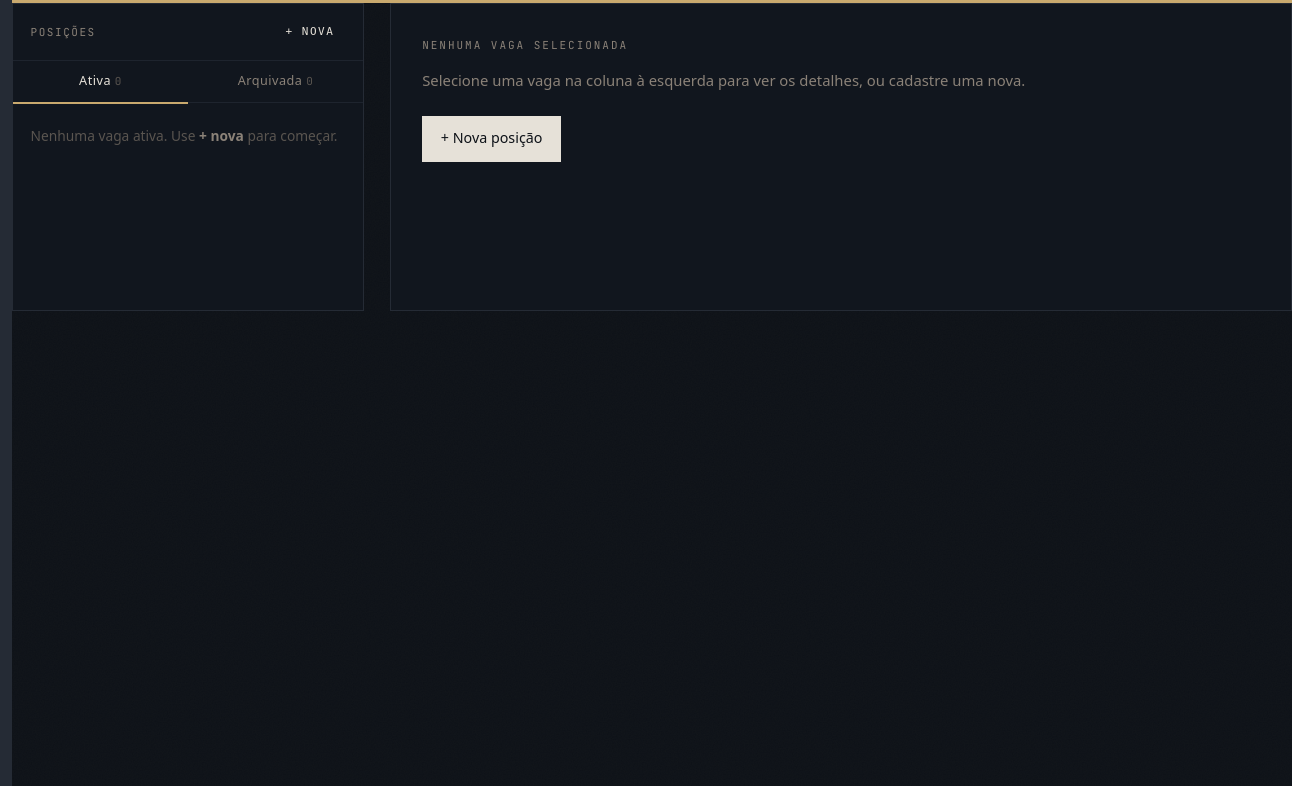
item-list sections (Requirements / Qualifications / Nice to Have) › começa com um único input por seção de lista
What coordinates should you click on to do the following:
click the button "+ Nova posição"
I would click on:
 (492, 139)
Its box is [422, 116, 561, 162].
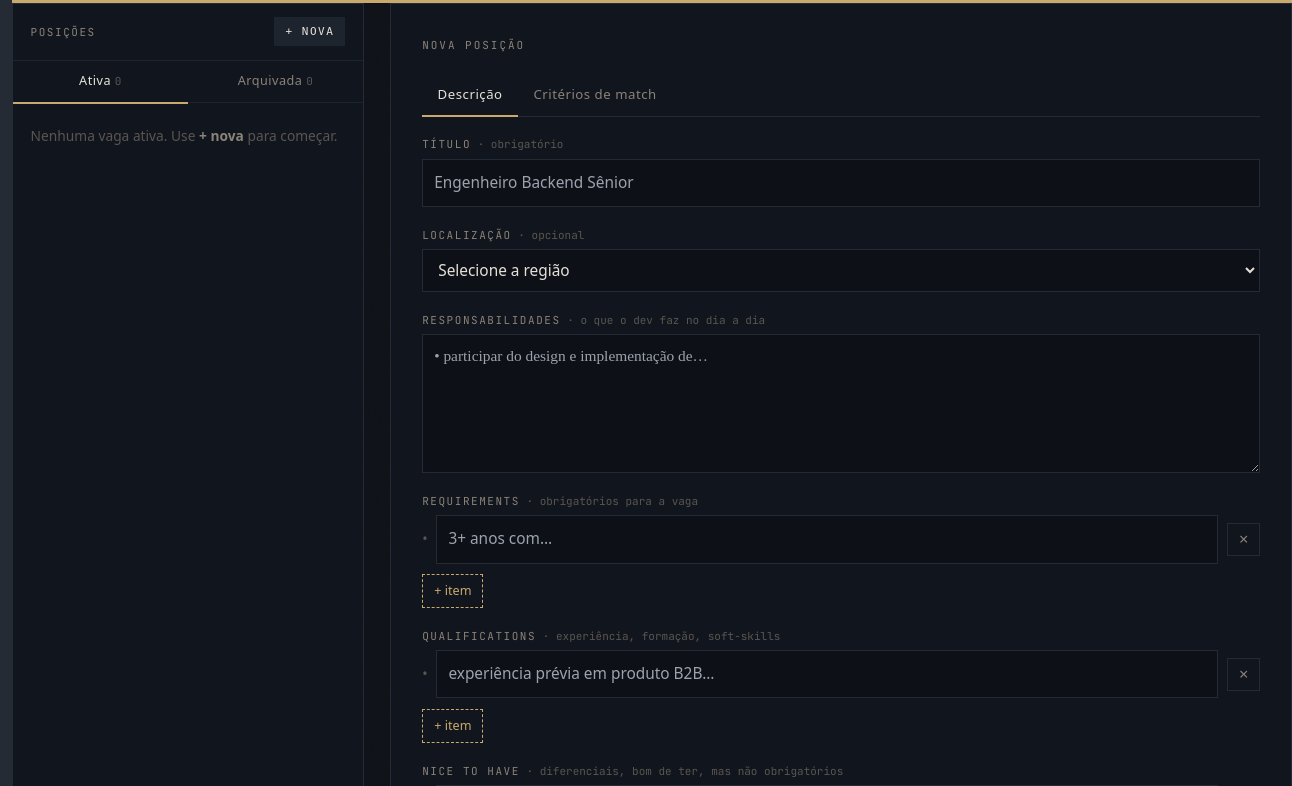
Expected: the number of buttons "+ item" is 3
